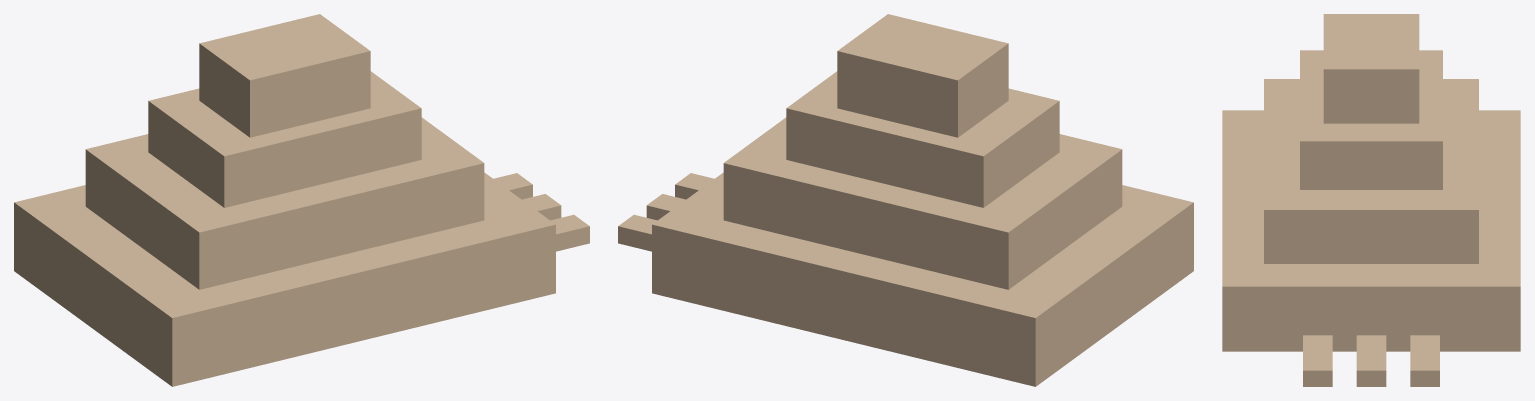
File: ziggurat.glb
3 renders of one model, left to right at view 1: azimuth 30°, elevation 25°; view 2: azimuth 150°, elevation 25°; view 3: azimuth 270°, elevation 25°, orthographic. The views are drawn at different scales.
Visible parts, largest first — view 1: Ziggurat; view 2: Ziggurat; view 3: Ziggurat.
Part boxes in pixels (<box>): Ziggurat: <box>14,14,589,386</box>; Ziggurat: <box>618,14,1193,386</box>; Ziggurat: <box>1222,14,1520,386</box>.
Bounding box in the file's own units: 8.4 × 4.1 × 5.
